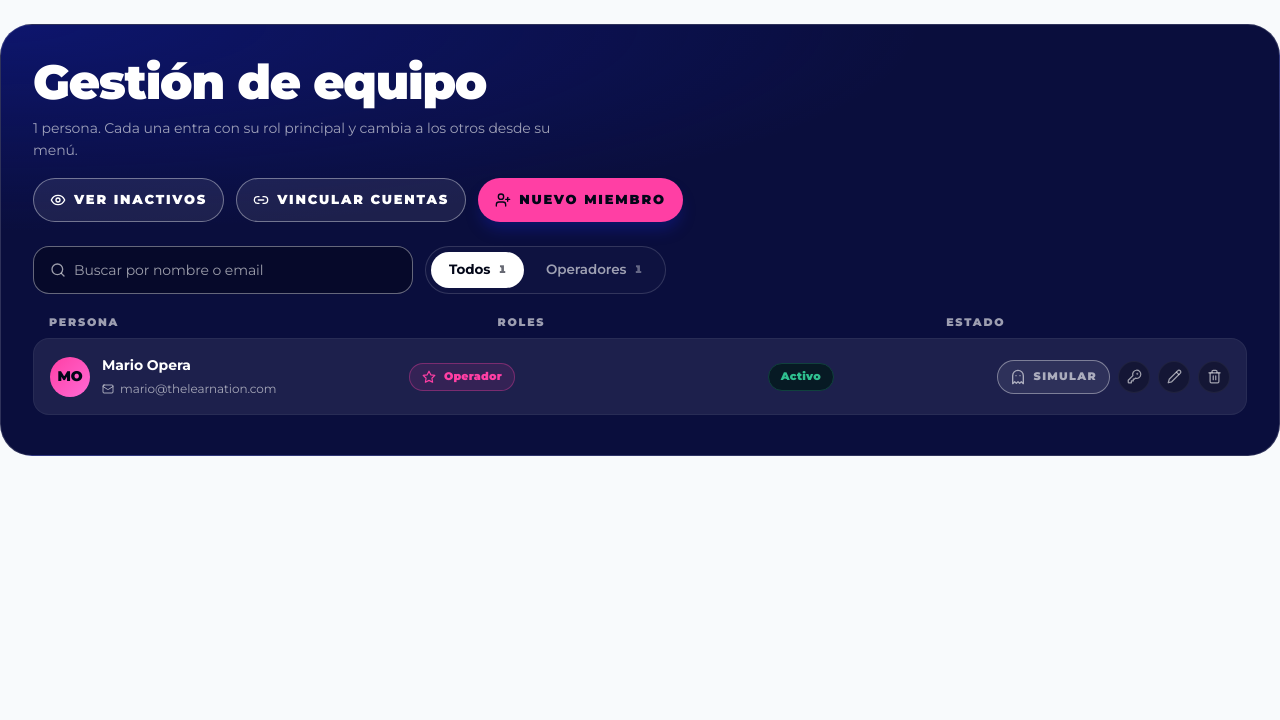
Scenario: TeamManagementPage · modal de miembro › editar abre el modal en body, con la X, Cancelar y Guardar a mano
Click the button titled "Editar": coordinates (1174, 377) [1158,361,1190,393]
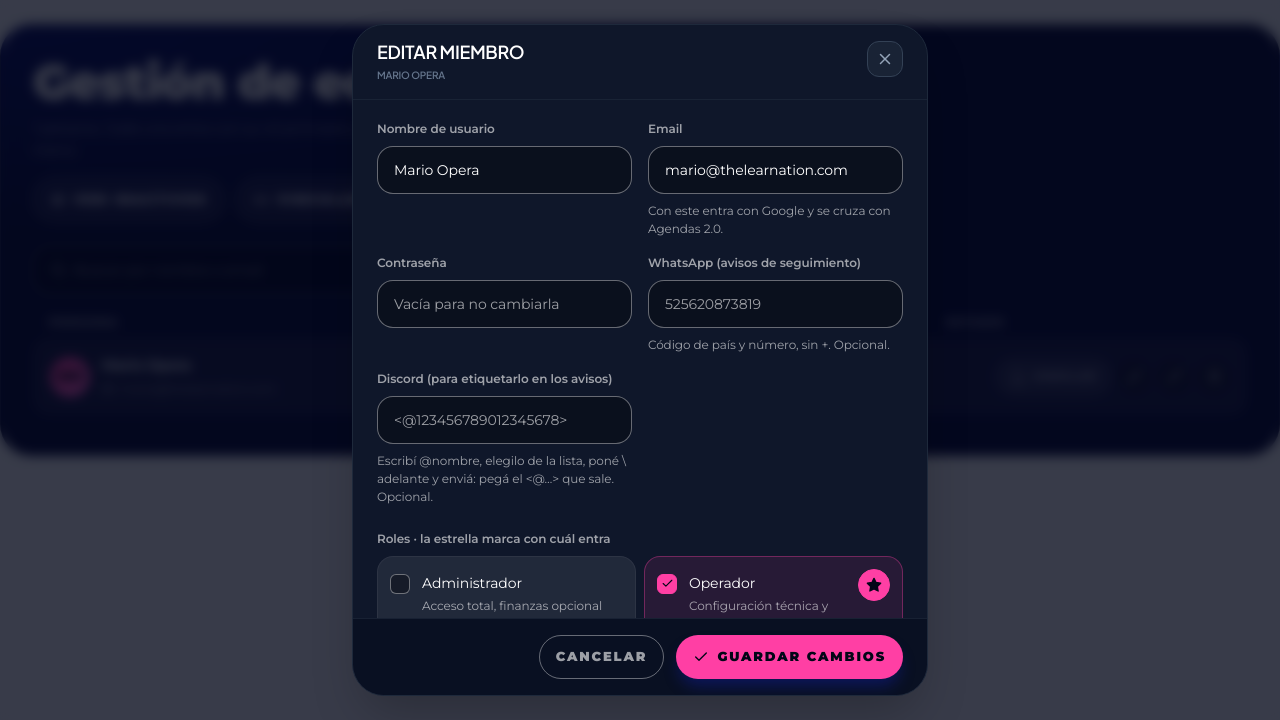
expect the field showing "Mario Opera" is shown: met, box [394,146,615,192]
